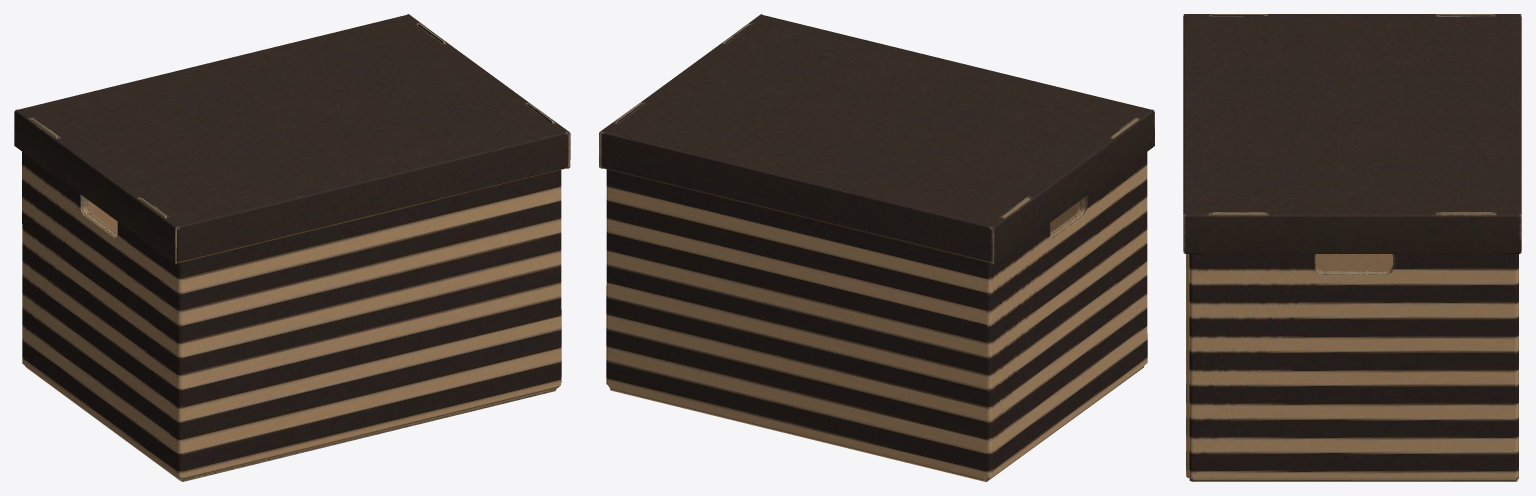
The model's file is svarttrada_pudeko_z_pokrywka_40623346.glb.
3 renders of one model, left to right at view 1: azimuth 30°, elevation 25°; view 2: azimuth 150°, elevation 25°; view 3: azimuth 270°, elevation 25°, orthographic. The views are drawn at different scales.
Parts seen in each view (by area): view 1: svarttrada_pudeko_z_pokrywka_40623346; view 2: svarttrada_pudeko_z_pokrywka_40623346; view 3: svarttrada_pudeko_z_pokrywka_40623346.
Boxes of the visible parts, x1=… form: svarttrada_pudeko_z_pokrywka_40623346: x1=14, y1=14, x2=570, y2=481; svarttrada_pudeko_z_pokrywka_40623346: x1=599, y1=14, x2=1154, y2=481; svarttrada_pudeko_z_pokrywka_40623346: x1=1183, y1=14, x2=1521, y2=481.
Bounding box in the file's own units: 0.4937 × 0.3099 × 0.349.
1 material, 1 textured.
